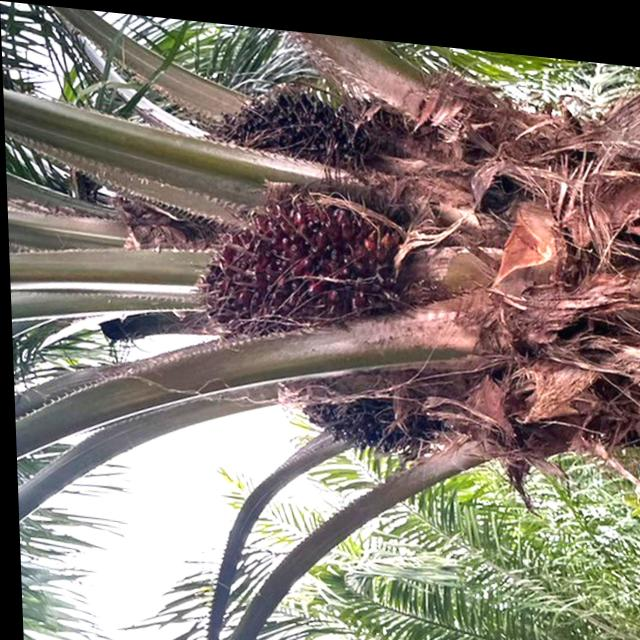ripe: (183, 175, 394, 347), (192, 70, 386, 181), (293, 388, 430, 455)
